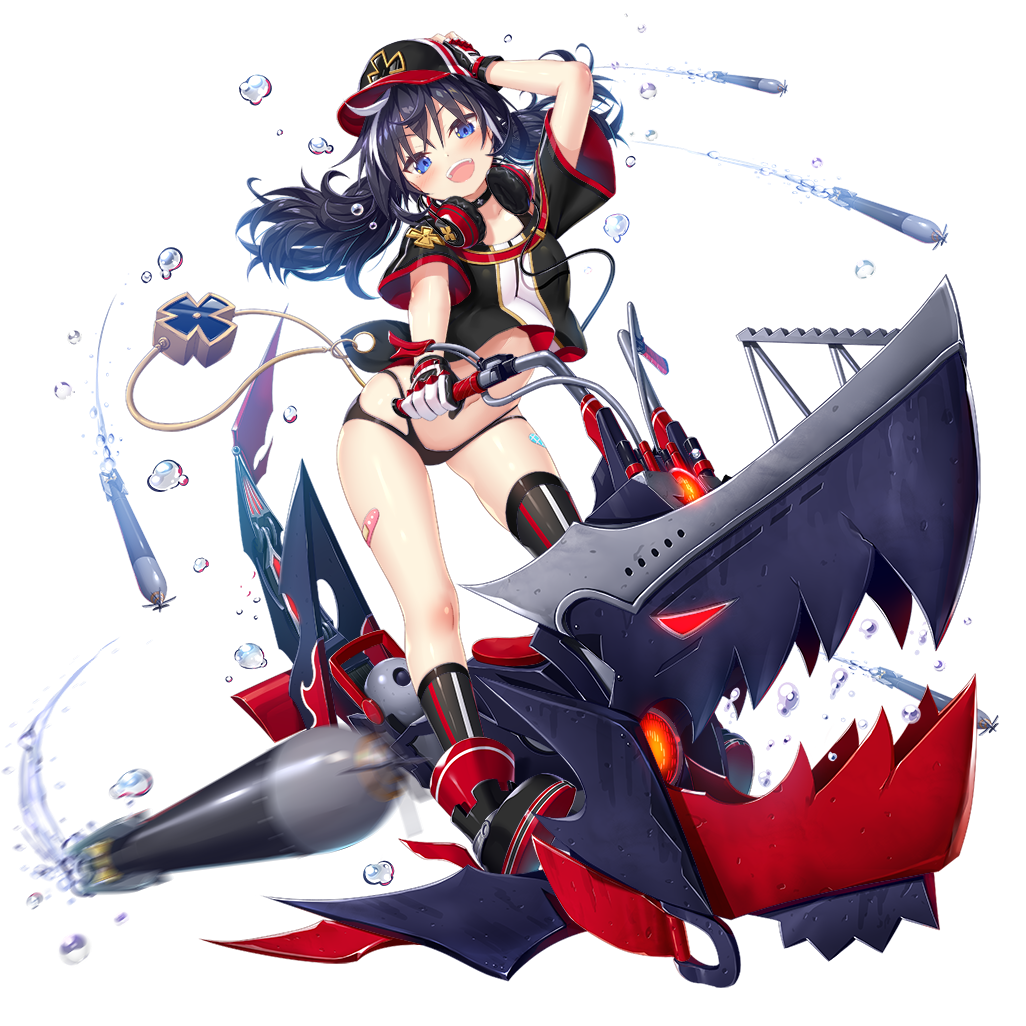person: (101, 42, 921, 861)
